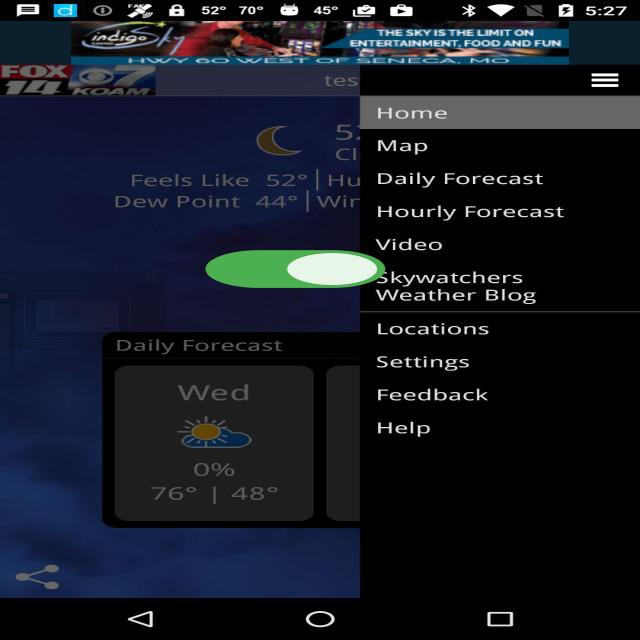social proof: (198, 236, 394, 305)
